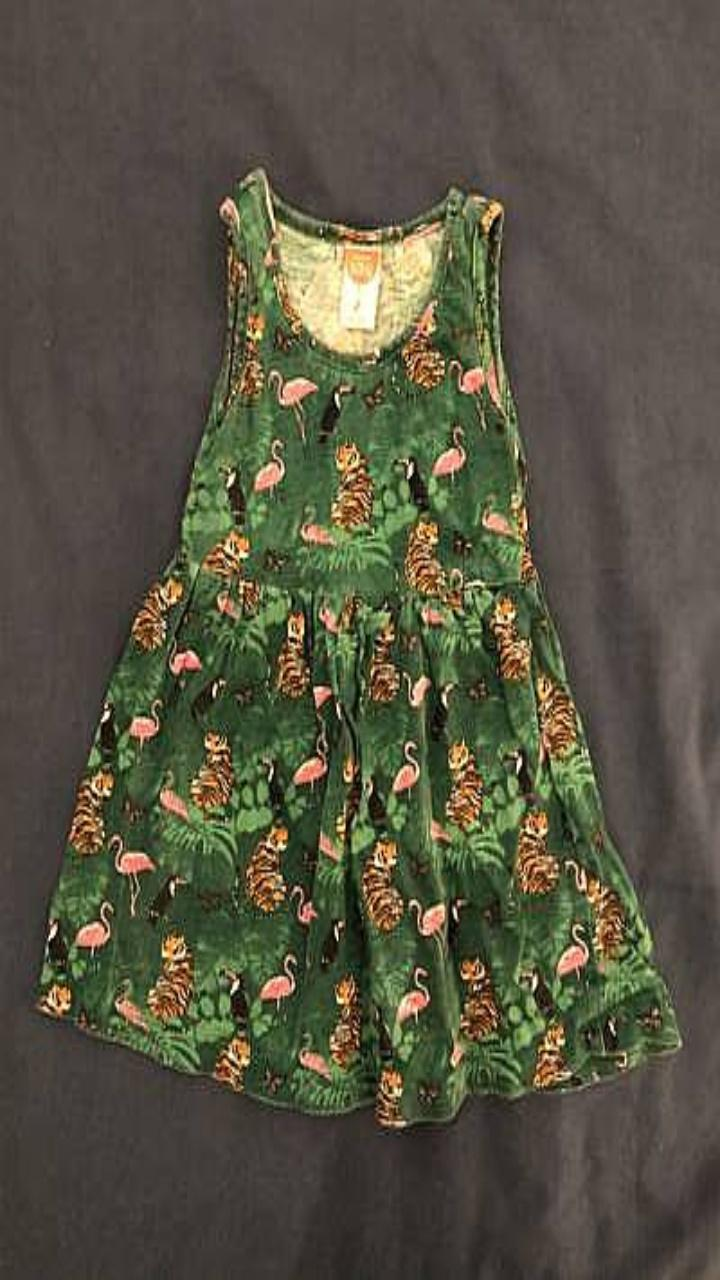Dresses: (35, 167, 681, 1127)
